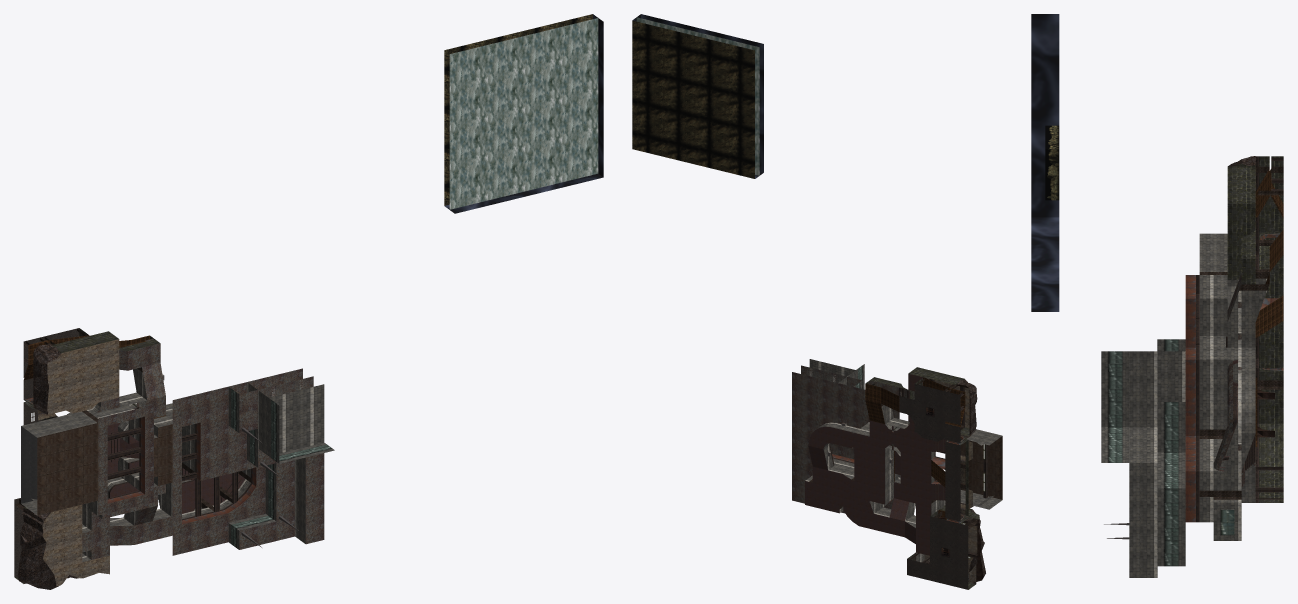
File: DM-Malice.obj
The picture shows the model from 3 angles, left to right: view 1: azimuth 30°, elevation 25°; view 2: azimuth 150°, elevation 25°; view 3: azimuth 270°, elevation 25°; orthographic projection. The views are drawn at different scales.
Visible parts, largest first — view 1: genfluid_Sky_SkytstA, RainFX_Concrete-rok, UTtech1_Wall_Cliffbrk6, TrenchesFX_Conc37, RainFX_r-plates-g, UTtech1_Window_rClifWn1, UT_crumbf1, RainFX_Rtrim1a, RainFX_mtl-bmps2, genfluid_Sky_BlueSky, skybox_grd, UT_cementf1 (+4 smaller); view 2: skybox_grd, RainFX_mtl-bmps2, UT_cementf1, RainFX_Concrete-rok, UTtech1_Wall_Cliffbrk6, RainFX_r-plates-g, UT_Woodf2, genfluid_Sky_BlueSky, Indus1_Stonestuff_ralPanBk, genfluid_Sky_SkytstA, RainFX_Rtrim1a, TrenchesFX_Conc37 (+3 smaller); view 3: UTtech1_Wall_Cliffbrk6, Indus1_Stonestuff_ralPanBk, UTtech1_Window_rClifWn1, genfluid_Sky_BlueSky, Indus1_Stonestuff_rPanMtl1, RainFX_Rtrim1a, UTtech1_pillar_mlBpillarblt4, UT_Woodf2, UTtech1_Wall_ClifBrk3, RainFX_Concrete-rok, UTtech1_Window_ClifBrk3x2, skybox_Lnd_1 (+1 smaller).
Part boxes in pixels (x1,y1,x2,y2): genfluid_Sky_SkytstA: (449, 18, 598, 209); RainFX_Concrete-rok: (82, 338, 324, 559); UTtech1_Wall_Cliffbrk6: (82, 368, 324, 561); TrenchesFX_Conc37: (23, 339, 119, 586); RainFX_r-plates-g: (37, 423, 172, 515); UTtech1_Window_rClifWn1: (228, 387, 334, 549); UT_crumbf1: (17, 344, 78, 589); RainFX_Rtrim1a: (24, 339, 252, 559); RainFX_mtl-bmps2: (107, 422, 244, 513); genfluid_Sky_BlueSky: (444, 14, 603, 213); skybox_grd: (444, 14, 592, 205); UT_cementf1: (14, 328, 79, 577); skybox_grd: (632, 20, 754, 178); RainFX_mtl-bmps2: (805, 373, 946, 555); UT_cementf1: (899, 384, 968, 589); RainFX_Concrete-rok: (792, 365, 908, 513); UTtech1_Wall_Cliffbrk6: (801, 359, 945, 562); RainFX_r-plates-g: (960, 436, 1002, 499); UT_Woodf2: (865, 377, 965, 487); genfluid_Sky_BlueSky: (632, 14, 763, 178); Indus1_Stonestuff_ralPanBk: (865, 367, 979, 589); genfluid_Sky_SkytstA: (636, 17, 759, 175); RainFX_Rtrim1a: (829, 378, 987, 563); TrenchesFX_Conc37: (924, 378, 977, 583); UTtech1_Wall_Cliffbrk6: (1129, 275, 1266, 577); Indus1_Stonestuff_ralPanBk: (1227, 156, 1283, 502); UTtech1_Window_rClifWn1: (1101, 339, 1185, 566); genfluid_Sky_BlueSky: (1031, 14, 1059, 311); Indus1_Stonestuff_rPanMtl1: (1185, 234, 1283, 522); RainFX_Rtrim1a: (1196, 156, 1283, 522); UTtech1_pillar_mlBpillarblt4: (1199, 166, 1283, 499); UT_Woodf2: (1255, 169, 1283, 337); UTtech1_Wall_ClifBrk3: (1199, 233, 1227, 271); RainFX_Concrete-rok: (1213, 273, 1241, 470); UTtech1_Window_ClifBrk3x2: (1220, 509, 1234, 535); skybox_Lnd_1: (1045, 149, 1059, 174).
Bounding box in the file's own units: 132 × 128 × 43.89.
